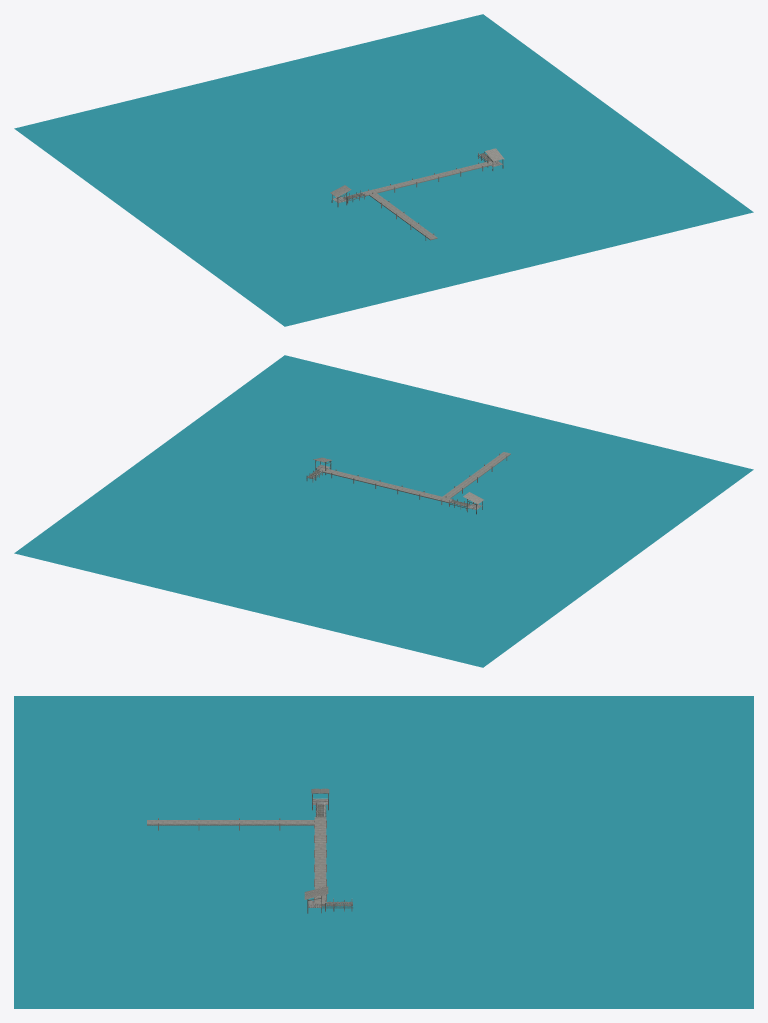
File: coast-0-0.glb
3 renders of one model, top to bottom at view 1: azimuth 30°, elevation 25°; view 2: azimuth 150°, elevation 25°; view 3: azimuth 270°, elevation 25°, orthographic. The views are drawn at different scales.
Visible parts, largest first — view 1: coast-0-0; view 2: coast-0-0; view 3: coast-0-0.
Boxes of the visible parts, x1,y1,x2,y2 form: coast-0-0: (14, 14, 753, 326); coast-0-0: (14, 355, 753, 667); coast-0-0: (14, 696, 753, 1008).
Bounding box in the file's own units: 256 × 12.74 × 256.
8 materials, 8 textured.
